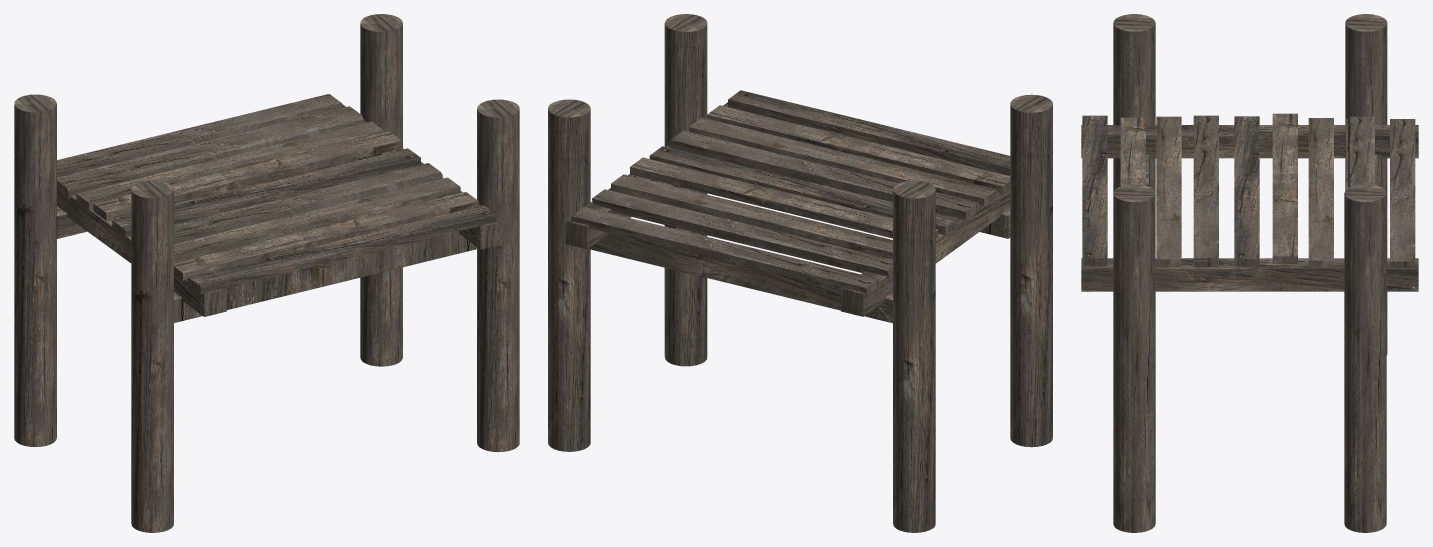
The model's file is Plataforma1.fbx.
3 views of the same model, side by side, from view 1: azimuth 30°, elevation 25°; view 2: azimuth 150°, elevation 25°; view 3: azimuth 270°, elevation 25° (orthographic).
Visible parts, largest first — view 1: Plataforma Tablas, Columna4, Columna3, Columna2; view 2: Plataforma Tablas, Columna4, Columna3, Columna2; view 3: Plataforma Tablas, Columna4, Columna2, Columna3.
Boxes of the visible parts, <box> form: Plataforma Tablas: <box>56,94,502,316</box>; Columna4: <box>131,99,519,532</box>; Columna3: <box>14,94,56,446</box>; Columna2: <box>360,14,402,366</box>; Plataforma Tablas: <box>565,90,1010,323</box>; Columna4: <box>664,14,1052,447</box>; Columna3: <box>893,180,935,532</box>; Columna2: <box>548,99,590,451</box>; Plataforma Tablas: <box>1081,113,1418,291</box>; Columna4: <box>1113,14,1155,532</box>; Columna2: <box>1344,184,1386,532</box>; Columna3: <box>1345,14,1387,355</box>.
Size of the model in its own units: 518 by 437 by 400.
Materials: 2 (2 with a texture image).
